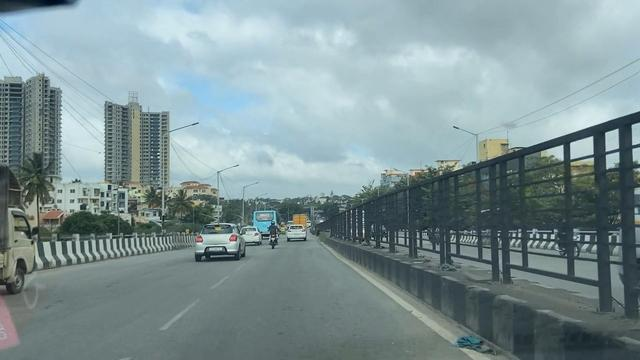HMV: (0, 158, 60, 309), (251, 203, 282, 246)
LMV: (194, 212, 247, 269), (260, 207, 287, 261), (288, 220, 314, 251), (239, 225, 263, 247)
